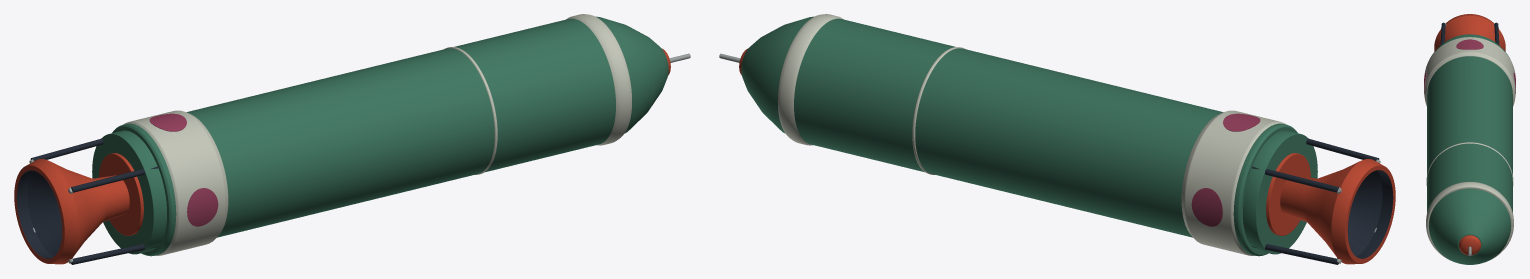
3 renders of one model, left to right at view 1: azimuth 30°, elevation 25°; view 2: azimuth 150°, elevation 25°; view 3: azimuth 270°, elevation 25°, orthographic. The views are drawn at different scales.
Visible parts, largest first — view 1: TI098 / Stasis straight green pressure casing, TI098 / Stasis hollow red propulsion bell, TI098 / Stasis broad pale lower collar, TI098 / Stasis annular engine mount, TI098 / Stasis rounded green head, TI098 / Stasis pale upper band, TI098 / Stasis annular nozzle flange, TI098 / Stasis green lower collar lip, TI098 / Stasis conformal maroon round marking, TI098 / Stasis conformal maroon round marking.003, TI098 / Stasis thin pale body joint, TI098 / Stasis open tail frame brace.002 (+2 smaller); view 2: TI098 / Stasis straight green pressure casing, TI098 / Stasis hollow red propulsion bell, TI098 / Stasis broad pale lower collar, TI098 / Stasis annular engine mount, TI098 / Stasis rounded green head, TI098 / Stasis pale upper band, TI098 / Stasis annular nozzle flange, TI098 / Stasis green lower collar lip, TI098 / Stasis conformal maroon round marking.002, TI098 / Stasis conformal maroon round marking.003, TI098 / Stasis thin pale body joint, TI098 / Stasis open tail frame brace.001 (+2 smaller); view 3: TI098 / Stasis straight green pressure casing, TI098 / Stasis rounded green head, TI098 / Stasis broad pale lower collar, TI098 / Stasis hollow red propulsion bell, TI098 / Stasis pale upper band, TI098 / Stasis small red nose cap, TI098 / Stasis conformal maroon round marking.003, TI098 / Stasis thin pale body joint, TI098 / Stasis green lower collar lip, TI098 / Stasis annular engine mount, TI098 / Stasis open tail frame brace.001, TI098 / Stasis open tail frame brace.002.
Part boxes in pixels (bbox=[...]): TI098 / Stasis straight green pressure casing: bbox=[186, 18, 615, 237]; TI098 / Stasis hollow red propulsion bell: bbox=[14, 159, 129, 264]; TI098 / Stasis broad pale lower collar: bbox=[123, 110, 228, 255]; TI098 / Stasis annular engine mount: bbox=[92, 130, 166, 254]; TI098 / Stasis rounded green head: bbox=[596, 16, 668, 133]; TI098 / Stasis pale upper band: bbox=[566, 14, 631, 145]; TI098 / Stasis annular nozzle flange: bbox=[99, 153, 143, 235]; TI098 / Stasis green lower collar lip: bbox=[112, 123, 176, 256]; TI098 / Stasis conformal maroon round marking: bbox=[187, 188, 218, 226]; TI098 / Stasis conformal maroon round marking.003: bbox=[149, 113, 186, 131]; TI098 / Stasis thin pale body joint: bbox=[444, 47, 497, 174]; TI098 / Stasis open tail frame brace.002: bbox=[71, 166, 157, 192]; TI098 / Stasis straight green pressure casing: bbox=[794, 18, 1223, 237]; TI098 / Stasis hollow red propulsion bell: bbox=[1280, 159, 1395, 264]; TI098 / Stasis broad pale lower collar: bbox=[1181, 110, 1286, 255]; TI098 / Stasis annular engine mount: bbox=[1243, 130, 1317, 254]; TI098 / Stasis rounded green head: bbox=[741, 16, 813, 133]; TI098 / Stasis pale upper band: bbox=[778, 14, 843, 145]; TI098 / Stasis annular nozzle flange: bbox=[1266, 153, 1310, 235]; TI098 / Stasis green lower collar lip: bbox=[1233, 123, 1297, 256]; TI098 / Stasis conformal maroon round marking.002: bbox=[1191, 188, 1222, 226]; TI098 / Stasis conformal maroon round marking.003: bbox=[1223, 113, 1260, 131]; TI098 / Stasis thin pale body joint: bbox=[912, 47, 965, 174]; TI098 / Stasis open tail frame brace.001: bbox=[1252, 166, 1338, 192]; TI098 / Stasis straight green pressure casing: bbox=[1427, 56, 1512, 212]; TI098 / Stasis rounded green head: bbox=[1428, 188, 1511, 264]; TI098 / Stasis broad pale lower collar: bbox=[1424, 37, 1515, 106]; TI098 / Stasis hollow red propulsion bell: bbox=[1434, 14, 1505, 51]; TI098 / Stasis pale upper band: bbox=[1426, 182, 1513, 261]; TI098 / Stasis small red nose cap: bbox=[1458, 235, 1481, 255]; TI098 / Stasis conformal maroon round marking.003: bbox=[1456, 39, 1483, 49]; TI098 / Stasis thin pale body joint: bbox=[1426, 142, 1513, 185]; TI098 / Stasis green lower collar lip: bbox=[1430, 36, 1509, 57]; TI098 / Stasis annular engine mount: bbox=[1439, 34, 1500, 46]; TI098 / Stasis open tail frame brace.001: bbox=[1494, 22, 1499, 44]; TI098 / Stasis open tail frame brace.002: bbox=[1440, 22, 1445, 44].
Bounding box in the file's own units: 6.31 × 1.16 × 1.16.
